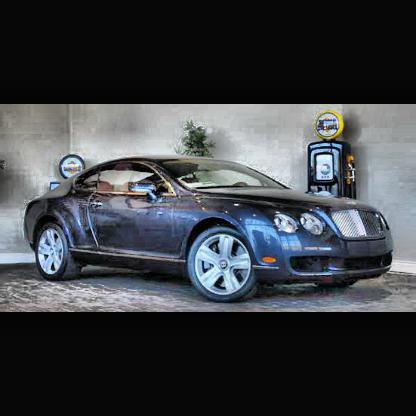Bentley Continental GT Coupe 2007: (24, 154, 396, 301)
